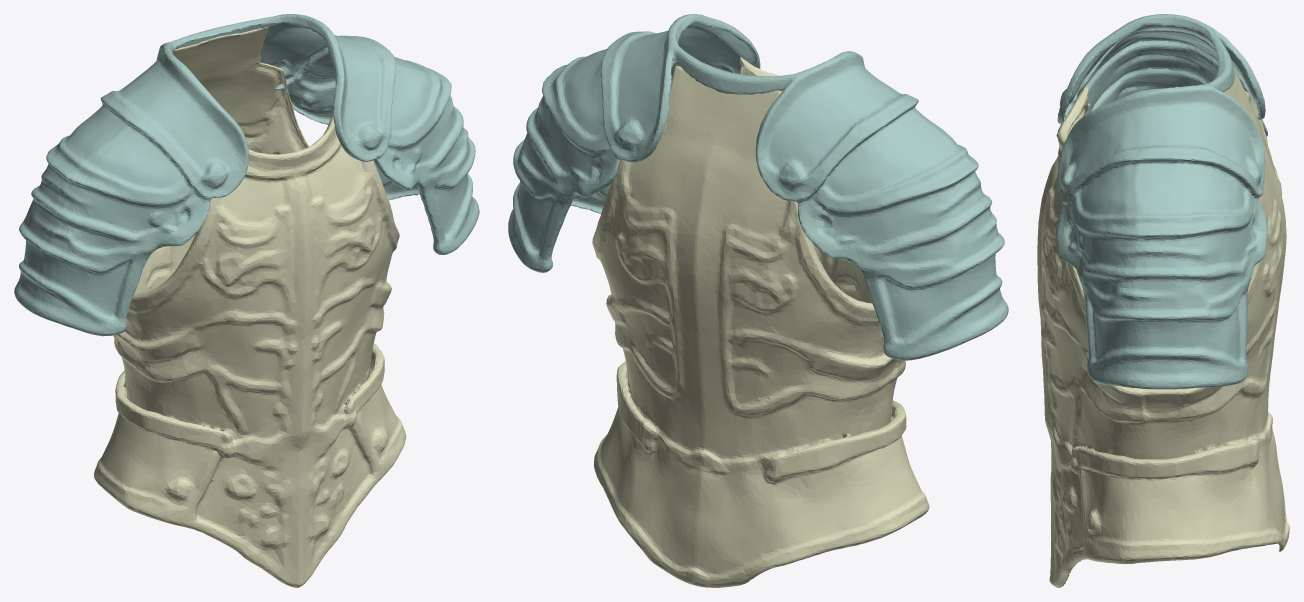
Rendered from redarmour.glb.
3 renders of one model, left to right at view 1: azimuth 30°, elevation 25°; view 2: azimuth 150°, elevation 25°; view 3: azimuth 270°, elevation 25°, orthographic. The views are drawn at different scales.
Parts seen in each view (by area): view 1: world; view 2: world; view 3: world.
Boxes of the visible parts, x1,y1,x2,y2 form: world: [14, 14, 479, 587]; world: [508, 14, 1008, 587]; world: [1037, 14, 1289, 587].
Bounding box in the file's own units: 1.73 × 1.9 × 0.813.
